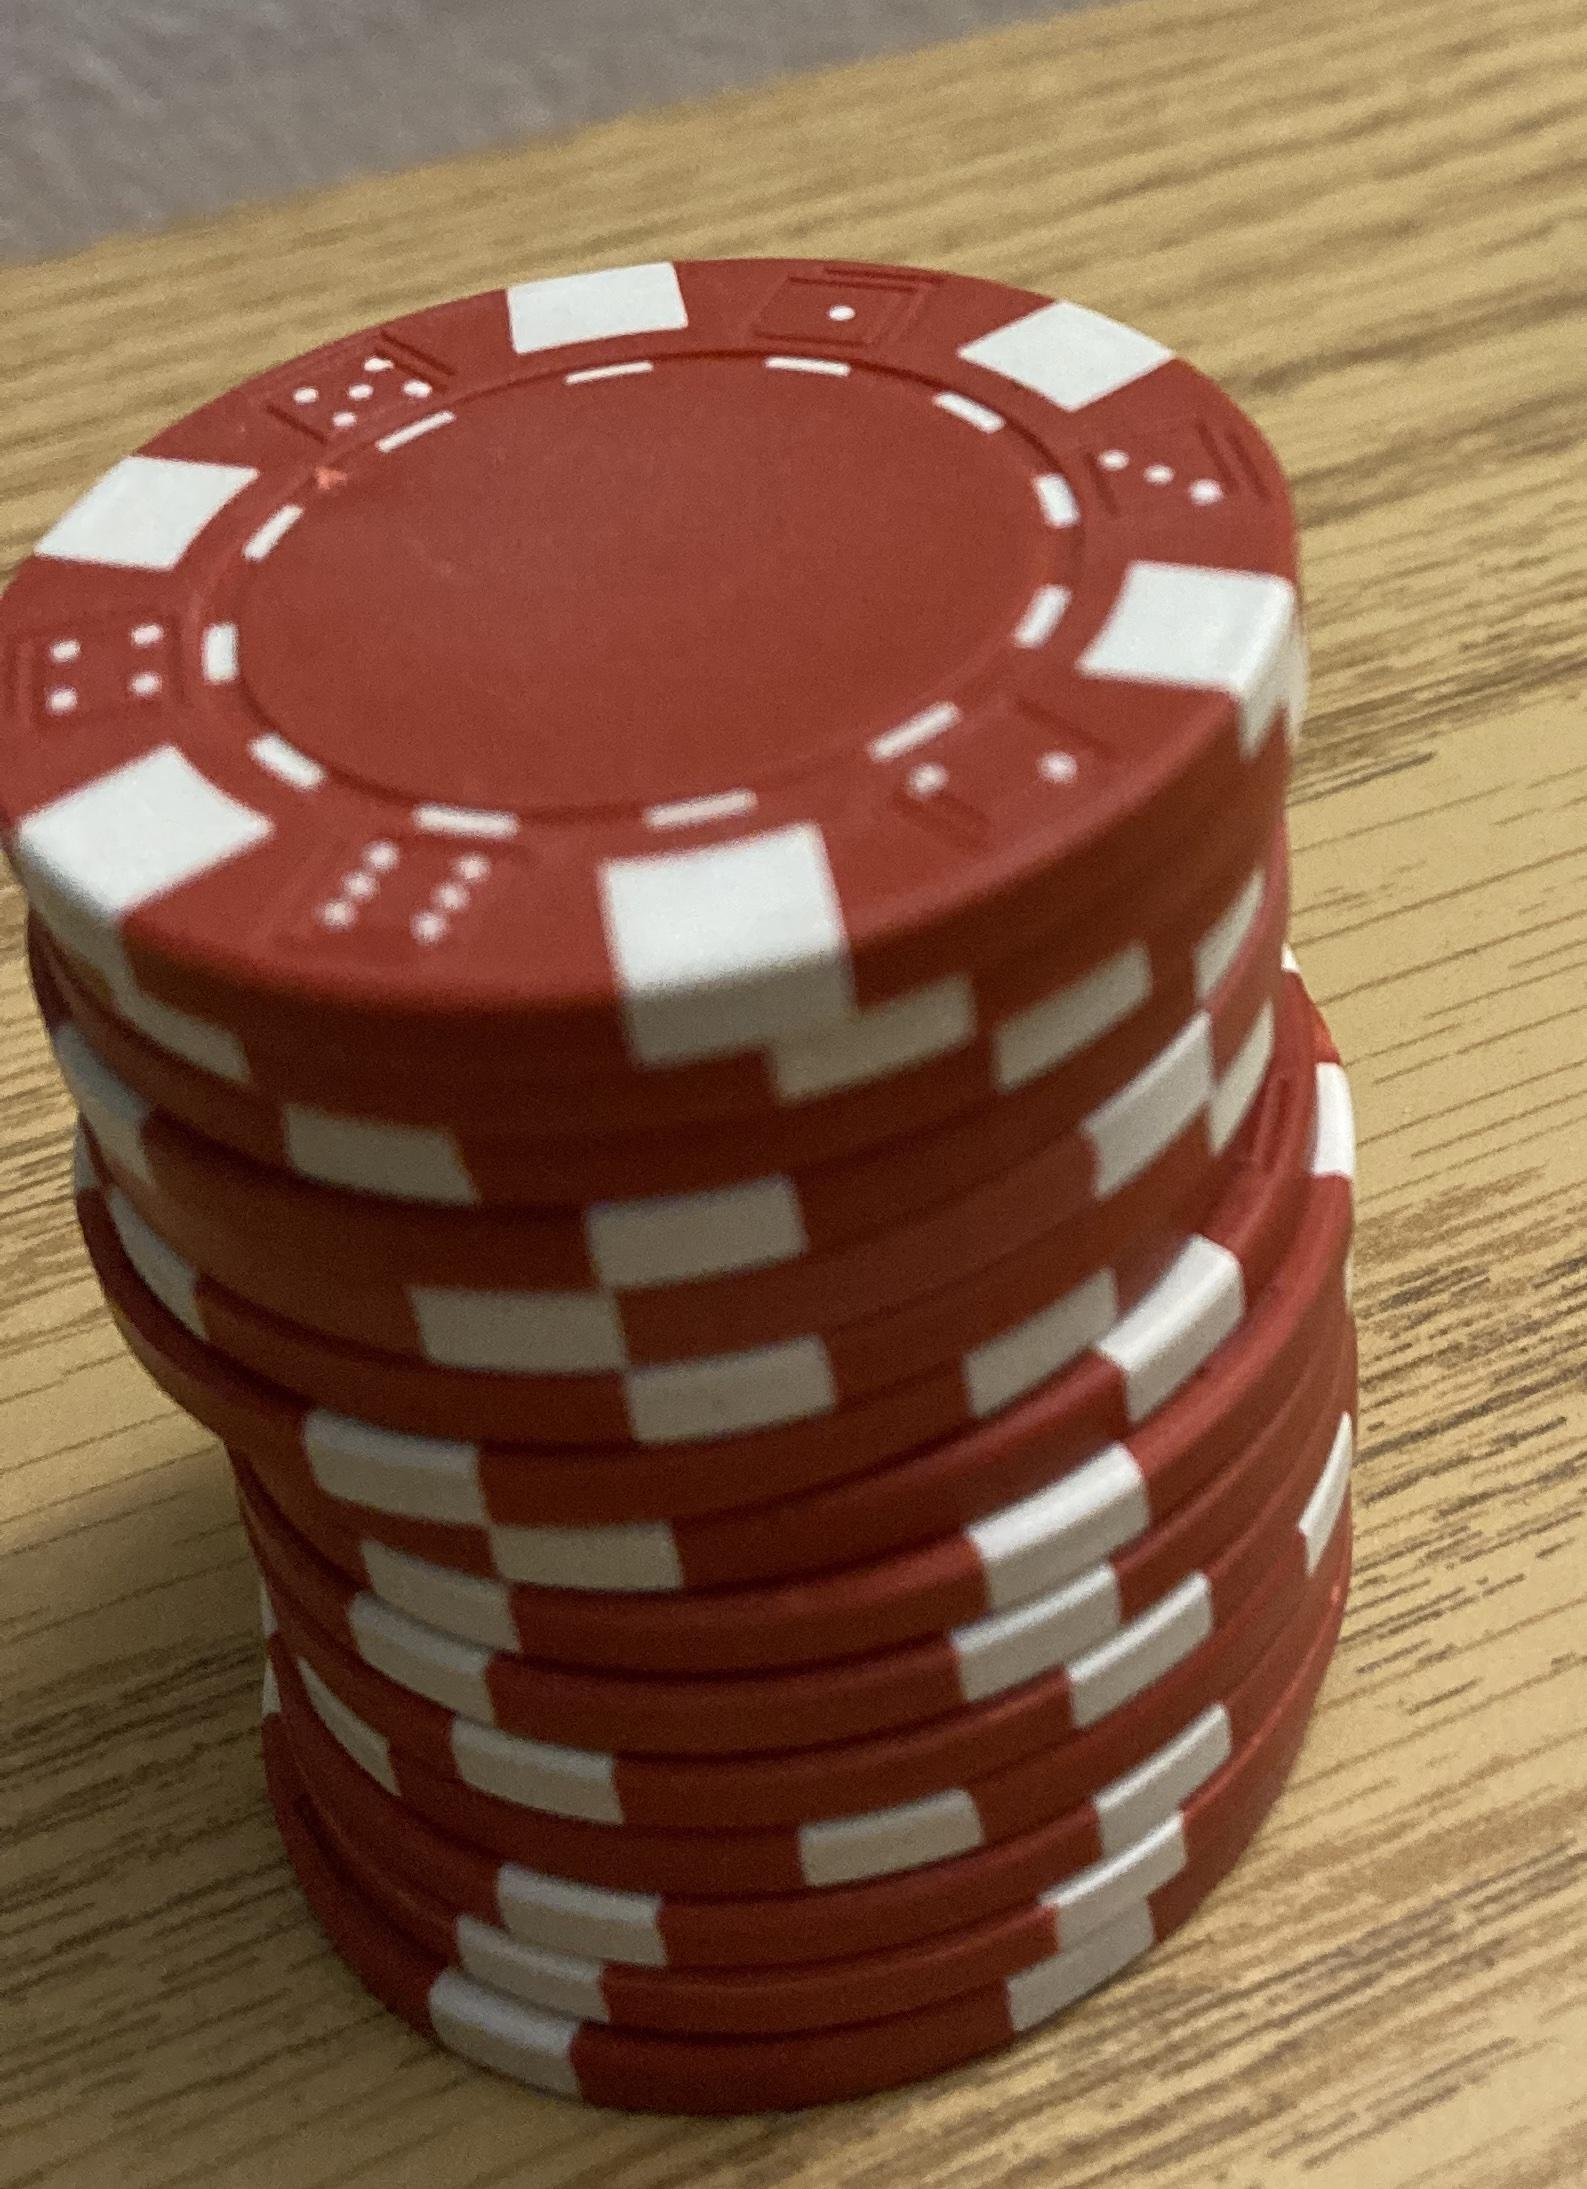Chip: (2, 2, 1587, 2189)
